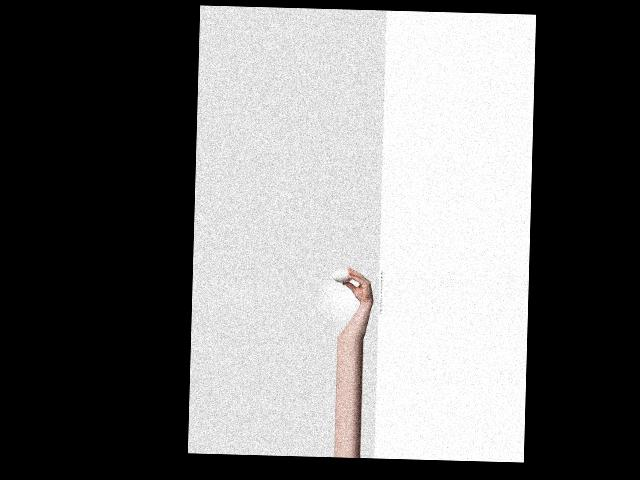egg: (331, 268, 352, 283)
